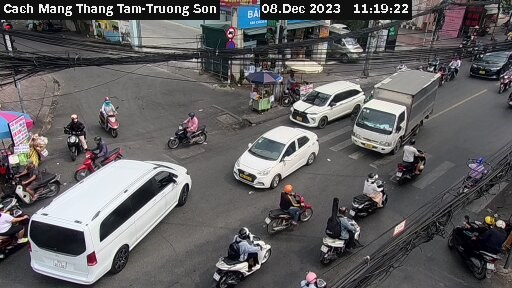car: (24, 158, 193, 273), (234, 123, 317, 193), (289, 75, 361, 141), (470, 47, 512, 82)
motorbike: (448, 212, 504, 277), (342, 169, 407, 221), (203, 235, 270, 283), (385, 138, 441, 184), (313, 211, 362, 259), (160, 116, 228, 150), (1, 170, 71, 203), (255, 192, 314, 231), (89, 99, 144, 136), (66, 144, 127, 169), (54, 119, 97, 149), (2, 205, 26, 248), (445, 59, 465, 82), (497, 70, 512, 91)
truck: (353, 65, 437, 152)
